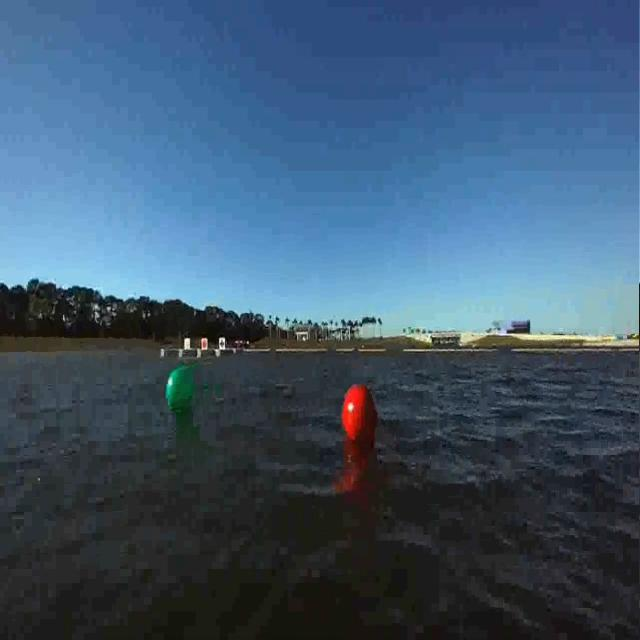green-buoy: (166, 366, 197, 410)
red-buoy: (342, 386, 379, 444)
